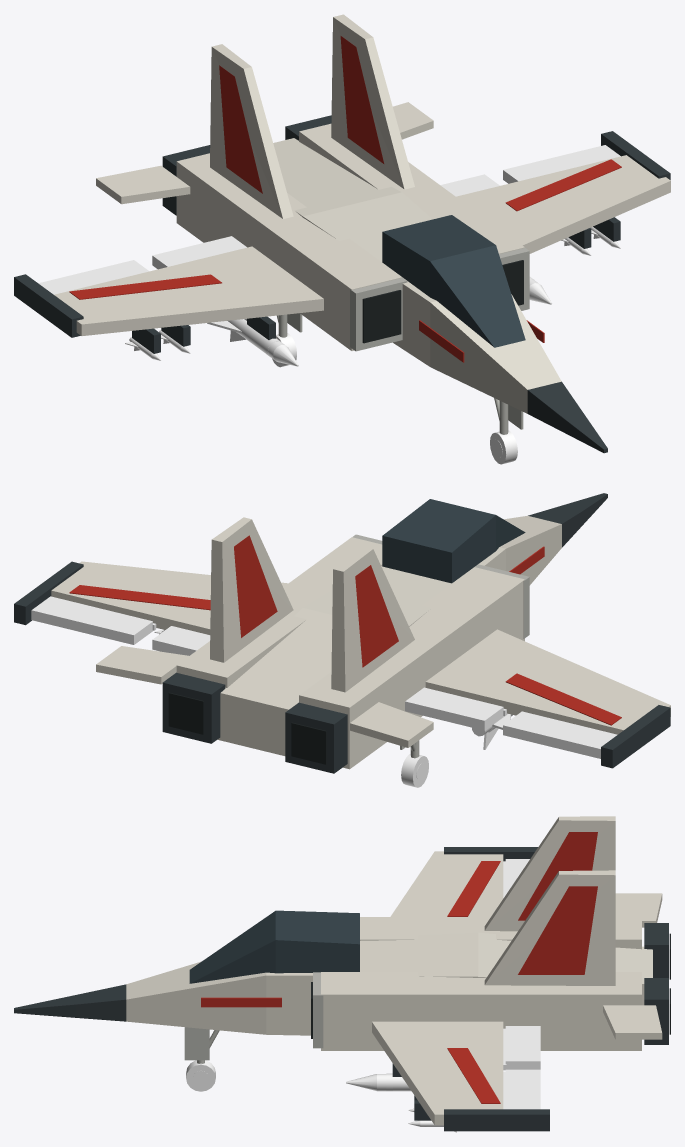
3 renders of one model, top to bottom at view 1: azimuth 30°, elevation 25°; view 2: azimuth 150°, elevation 25°; view 3: azimuth 270°, elevation 25°, orthographic. The views are drawn at different scales.
Visible parts, largest first — view 1: jet-a-fleet-armor, jet-a-fleet-glass, jet-a-fleet-machine, jet-a-fleet-red, jet-a-fleet-rubber, elevator-left-fleet-armor, jet-a-fleet-edge, aileron-right-painted, aileron-left-painted, flap-left-painted, store-left-large-painted, elevator-right-fleet-armor (+2 smaller); view 2: jet-a-fleet-armor, jet-a-fleet-machine, jet-a-fleet-red, jet-a-fleet-glass, aileron-right-painted, aileron-left-painted, flap-left-painted, jet-a-fleet-rubber, elevator-left-fleet-armor, elevator-right-fleet-armor, flap-right-painted, jet-a-fleet-edge (+1 smaller); view 3: jet-a-fleet-armor, jet-a-fleet-red, jet-a-fleet-glass, jet-a-fleet-machine, elevator-right-fleet-armor, flap-right-painted, aileron-right-painted, elevator-left-fleet-armor, landing-gear-nose-fleet-edge, store-right-large-painted, jet-a-fleet-edge, gear-wheel-nose-0-0-painted (+1 smaller).
Boxes of the visible parts, left/top/right/bottom form: jet-a-fleet-armor: left=54, top=14, right=670, bottom=413; jet-a-fleet-glass: left=382, top=215, right=525, bottom=347; jet-a-fleet-machine: left=14, top=115, right=670, bottom=453; jet-a-fleet-red: left=69, top=36, right=621, bottom=362; jet-a-fleet-rubber: left=362, top=260, right=523, bottom=343; elevator-left-fleet-armor: left=96, top=165, right=190, bottom=204; jet-a-fleet-edge: left=350, top=248, right=529, bottom=351; aileron-right-painted: left=503, top=145, right=620, bottom=183; aileron-left-painted: left=38, top=260, right=149, bottom=294; flap-left-painted: left=152, top=236, right=246, bottom=269; store-left-large-painted: left=207, top=318, right=298, bottom=366; elevator-right-fleet-armor: left=393, top=102, right=433, bottom=139; jet-a-fleet-armor: left=51, top=515, right=670, bottom=769; jet-a-fleet-machine: left=14, top=493, right=670, bottom=773; jet-a-fleet-red: left=69, top=535, right=621, bottom=725; jet-a-fleet-glass: left=382, top=499, right=525, bottom=583; aileron-right-painted: left=31, top=596, right=156, bottom=644; aileron-left-painted: left=503, top=711, right=617, bottom=758; flap-left-painted: left=405, top=687, right=506, bottom=730; jet-a-fleet-rubber: left=168, top=692, right=326, bottom=764; elevator-left-fleet-armor: left=350, top=702, right=433, bottom=747; elevator-right-fleet-armor: left=96, top=646, right=188, bottom=684; flap-right-painted: left=152, top=626, right=210, bottom=655; jet-a-fleet-edge: left=352, top=534, right=529, bottom=638; jet-a-fleet-armor: left=126, top=816, right=652, bottom=1125; jet-a-fleet-red: left=201, top=832, right=597, bottom=1103; jet-a-fleet-glass: left=189, top=910, right=359, bottom=983; jet-a-fleet-machine: left=14, top=847, right=668, bottom=1131; elevator-right-fleet-armor: left=603, top=1005, right=662, bottom=1039; flap-right-painted: left=503, top=1026, right=540, bottom=1070; aileron-right-painted: left=503, top=1069, right=540, bottom=1109; elevator-left-fleet-armor: left=615, top=893, right=662, bottom=927; landing-gear-nose-fleet-edge: left=184, top=1027, right=219, bottom=1063; store-right-large-painted: left=346, top=1073, right=411, bottom=1091; jet-a-fleet-edge: left=313, top=972, right=323, bottom=1048; gear-wheel-nose-0-0-painted: left=186, top=1060, right=215, bottom=1091.
Bounding box in the file's own units: 59.87 × 25.4 × 62.11.
